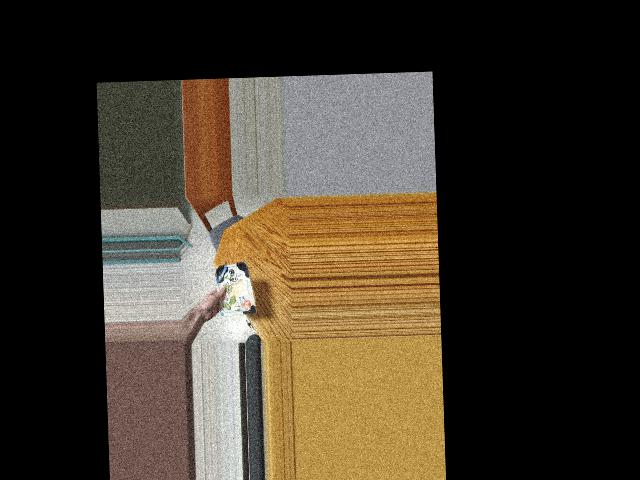cheese: (208, 263, 257, 316)
